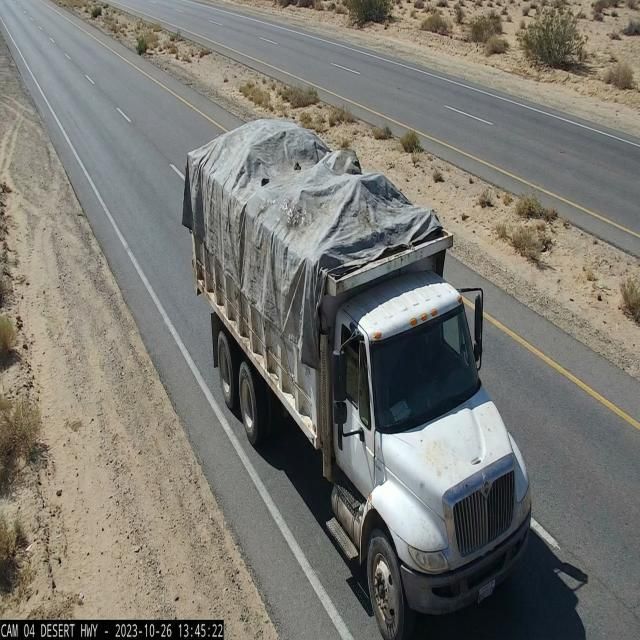Box: (191, 123, 449, 291)
Truck: (184, 92, 535, 602)
